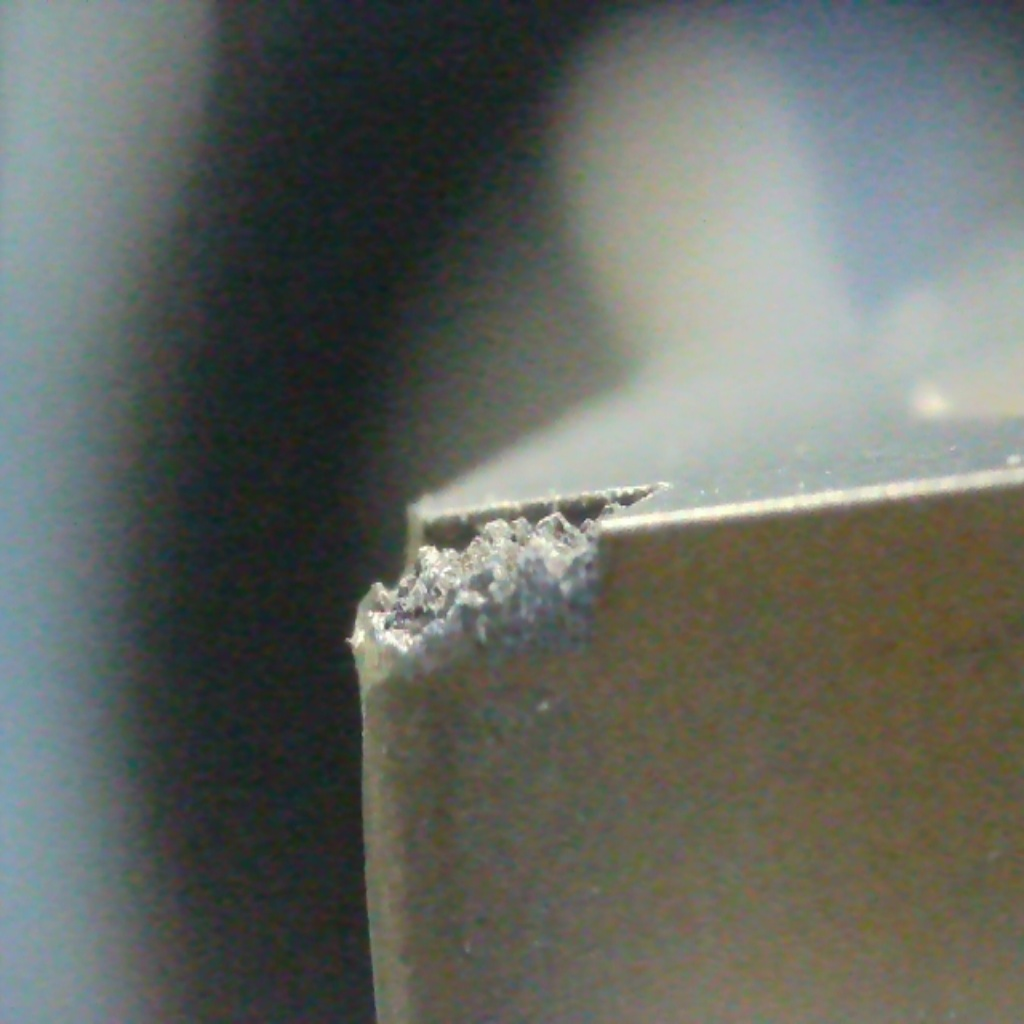flank_wear: (351, 598, 583, 711)
